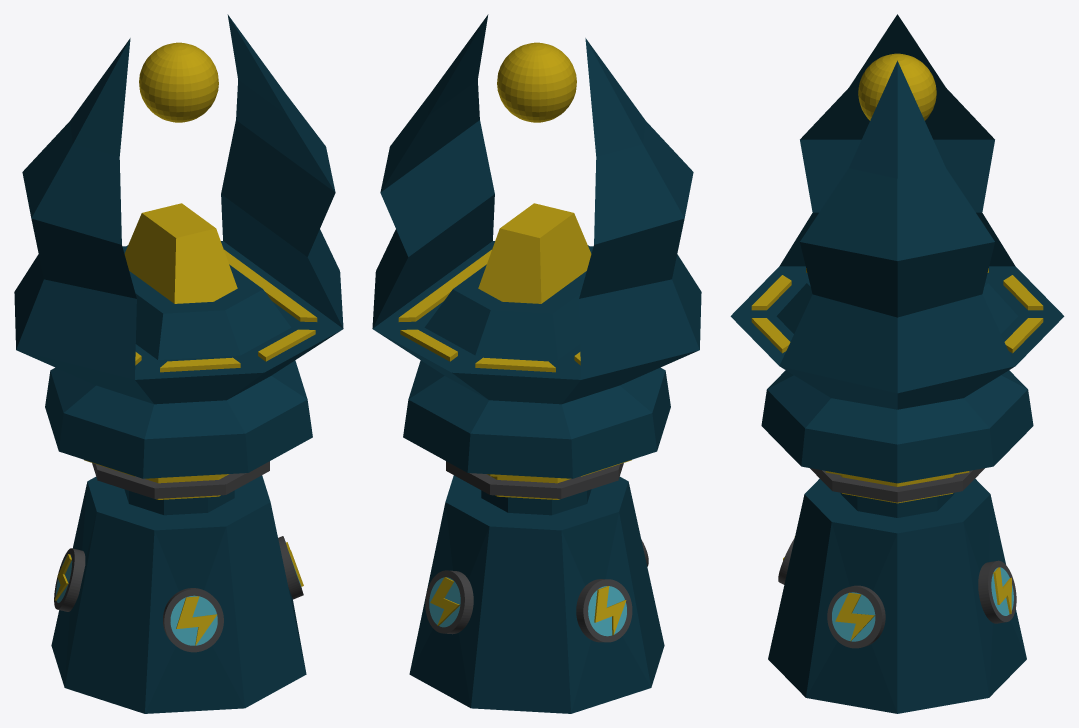
The model's file is electrictower.fbx.
The picture shows the model from 3 angles, left to right: view 1: azimuth 30°, elevation 25°; view 2: azimuth 150°, elevation 25°; view 3: azimuth 270°, elevation 25°; orthographic projection.
Parts seen in each view (by area): view 1: Tower, LightningBall; view 2: Tower, LightningBall; view 3: Tower, LightningBall.
Part boxes in pixels (x1,y1,x2,y2): Tower: (14,14,343,713); LightningBall: (139,42,218,122); Tower: (372,14,701,713); LightningBall: (497,42,576,122); Tower: (730,14,1064,713); LightningBall: (858,53,936,120).
Bounding box in the file's own units: 1779 × 3328 × 1620.
